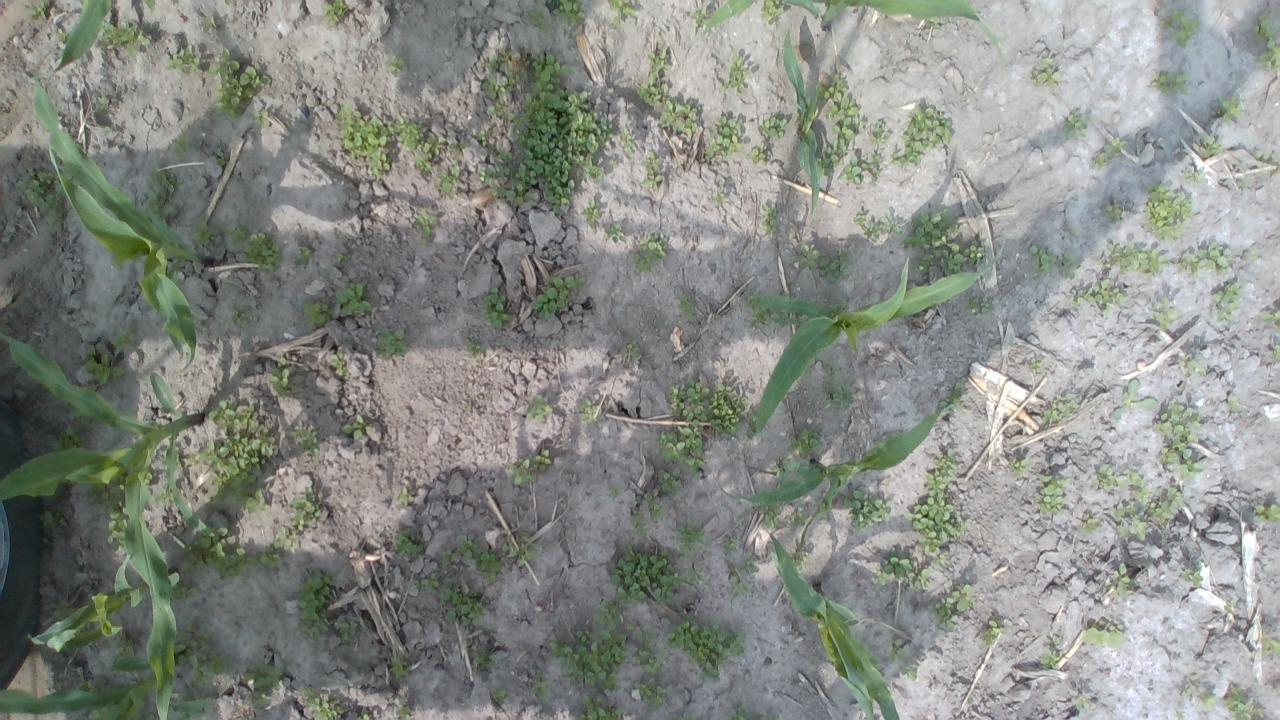Maize: (0, 328, 206, 720), (30, 78, 218, 374), (747, 241, 1004, 429), (716, 403, 954, 520), (767, 533, 902, 720), (706, 0, 1010, 64), (29, 552, 175, 650), (0, 649, 183, 720), (782, 30, 832, 214), (47, 0, 157, 80)
Weeds: (508, 50, 616, 214), (197, 400, 278, 515), (549, 599, 627, 694), (666, 614, 746, 684), (666, 377, 752, 440), (814, 72, 866, 176), (609, 542, 686, 609), (1153, 400, 1207, 482), (180, 524, 258, 580), (905, 497, 968, 566), (211, 46, 271, 117), (904, 210, 966, 276), (172, 626, 237, 688), (337, 101, 391, 175), (15, 166, 67, 232), (902, 102, 952, 167), (1139, 181, 1192, 242), (438, 535, 504, 583), (295, 568, 337, 638), (530, 274, 588, 320), (436, 577, 489, 627), (793, 240, 849, 286), (229, 225, 281, 272), (144, 158, 182, 222), (926, 582, 974, 632), (1100, 240, 1162, 278), (842, 488, 894, 532), (1072, 279, 1128, 317), (660, 426, 706, 472), (96, 21, 150, 59), (638, 50, 672, 108), (1112, 379, 1158, 421), (627, 622, 664, 674), (1249, 14, 1280, 74), (80, 347, 126, 387), (246, 662, 284, 710), (335, 276, 376, 320), (823, 360, 858, 410), (1160, 9, 1200, 52), (657, 97, 699, 136), (706, 114, 741, 160), (86, 472, 126, 512), (632, 232, 670, 274), (1175, 246, 1228, 276), (853, 210, 902, 242), (1149, 486, 1187, 526), (1110, 501, 1147, 540), (1222, 687, 1264, 720), (720, 52, 751, 96), (481, 288, 514, 329), (392, 114, 428, 151), (1117, 468, 1151, 507), (287, 487, 321, 526), (926, 456, 958, 497), (1035, 474, 1066, 516), (574, 694, 624, 720), (286, 422, 321, 459), (299, 686, 337, 720), (508, 532, 546, 566), (108, 638, 140, 678), (268, 357, 298, 399), (373, 326, 408, 361), (674, 524, 708, 560), (876, 554, 913, 586), (632, 678, 669, 710), (53, 426, 96, 453), (1042, 393, 1078, 423), (1212, 283, 1240, 321), (636, 490, 668, 523), (1106, 562, 1139, 594), (790, 427, 821, 461), (1150, 296, 1179, 332), (1151, 69, 1189, 96), (1027, 55, 1059, 87), (166, 44, 200, 74), (1093, 138, 1127, 168), (552, 0, 586, 29), (394, 527, 424, 558), (1082, 626, 1122, 649), (342, 415, 376, 442), (68, 402, 100, 430), (110, 328, 144, 354), (1184, 685, 1218, 711), (1028, 244, 1058, 273), (302, 301, 334, 328), (758, 202, 782, 238), (415, 206, 441, 239), (744, 295, 770, 328), (192, 219, 220, 249), (641, 153, 662, 192), (106, 512, 130, 546), (272, 523, 300, 552), (425, 134, 461, 156), (338, 618, 371, 642), (760, 115, 789, 142), (1063, 107, 1088, 138), (976, 616, 1001, 646), (608, 0, 638, 25), (1040, 638, 1062, 672), (324, 0, 351, 27), (524, 396, 552, 421), (772, 456, 800, 481), (508, 459, 534, 485), (1220, 94, 1244, 122), (1193, 134, 1221, 158), (438, 164, 461, 193), (630, 505, 650, 538), (327, 350, 350, 378), (524, 9, 552, 32), (838, 157, 860, 186), (532, 670, 550, 705), (728, 574, 752, 600), (384, 52, 410, 76), (1095, 462, 1117, 490), (482, 47, 508, 70), (658, 469, 684, 492), (771, 311, 808, 327), (962, 296, 994, 314), (1252, 142, 1278, 164), (260, 546, 282, 572), (868, 118, 888, 146), (477, 164, 512, 180), (576, 399, 600, 422), (167, 256, 186, 285), (534, 448, 556, 473), (1254, 503, 1280, 524), (43, 506, 67, 528), (1182, 353, 1204, 377), (764, 0, 786, 24), (156, 482, 178, 506), (482, 76, 507, 97), (942, 384, 962, 410), (886, 637, 908, 660), (171, 136, 191, 161), (692, 7, 712, 32), (390, 655, 409, 681), (1060, 251, 1077, 280), (52, 600, 76, 620), (720, 536, 739, 561), (462, 338, 488, 356), (474, 648, 496, 669), (678, 295, 695, 322), (582, 199, 600, 224), (912, 568, 932, 590), (791, 550, 810, 573), (416, 152, 434, 176), (761, 506, 780, 528), (866, 154, 882, 180), (748, 143, 768, 163), (606, 223, 626, 243), (622, 127, 638, 152), (740, 556, 760, 576), (1078, 516, 1100, 534), (170, 584, 192, 602), (724, 706, 752, 720), (28, 0, 51, 17), (1261, 636, 1280, 656), (1184, 569, 1204, 588), (492, 142, 513, 160), (413, 576, 439, 590), (1103, 205, 1122, 224), (232, 304, 252, 322), (1010, 458, 1030, 476), (253, 109, 271, 128), (789, 507, 807, 526), (490, 686, 508, 704), (489, 184, 509, 200), (685, 568, 705, 584), (397, 488, 415, 505), (829, 300, 850, 314), (1186, 170, 1206, 184), (1263, 310, 1280, 326), (1226, 394, 1240, 413), (1268, 341, 1280, 363), (904, 664, 919, 681), (200, 16, 215, 32), (298, 245, 314, 260), (484, 103, 504, 115), (213, 148, 226, 166), (476, 129, 491, 144), (926, 14, 940, 30), (608, 484, 624, 498), (623, 342, 641, 354), (56, 28, 71, 42), (1223, 598, 1237, 613), (398, 705, 412, 720), (1246, 247, 1260, 262), (670, 713, 699, 720), (97, 96, 108, 112), (178, 693, 197, 702), (1076, 697, 1090, 709), (141, 470, 153, 484), (102, 126, 116, 137), (1240, 174, 1248, 193), (714, 192, 724, 206), (355, 712, 370, 720), (1031, 360, 1042, 369), (335, 253, 344, 261)
